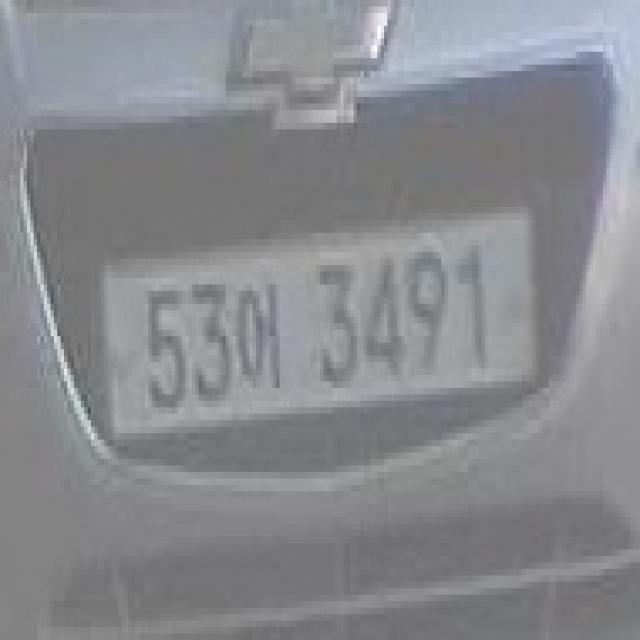1: (452, 226, 506, 420)
3: (303, 246, 367, 433), (192, 265, 236, 427)
4: (353, 239, 408, 427)
5: (135, 272, 192, 426)
9: (404, 220, 452, 407)
eo: (232, 259, 296, 420)
license_plate: (98, 181, 556, 472)
